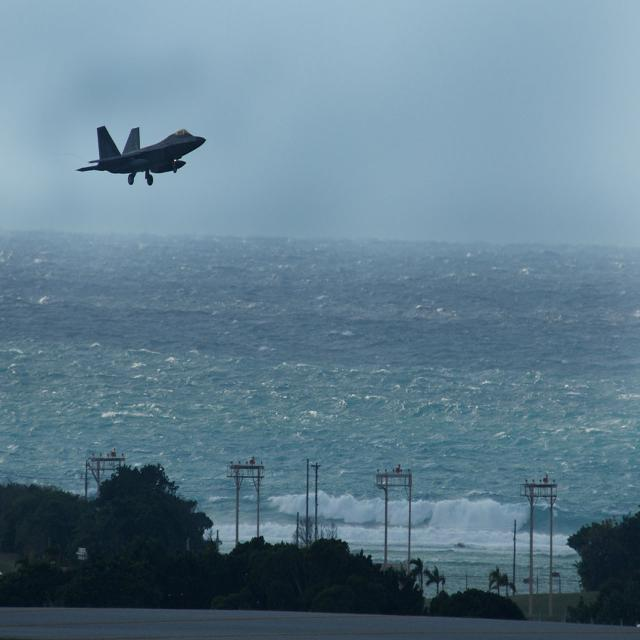MIL_Plane: (75, 125, 207, 186)
